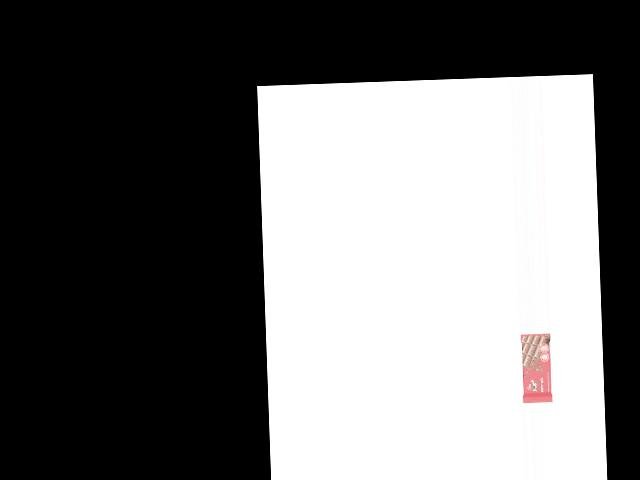chocolate: (520, 333, 553, 404)
